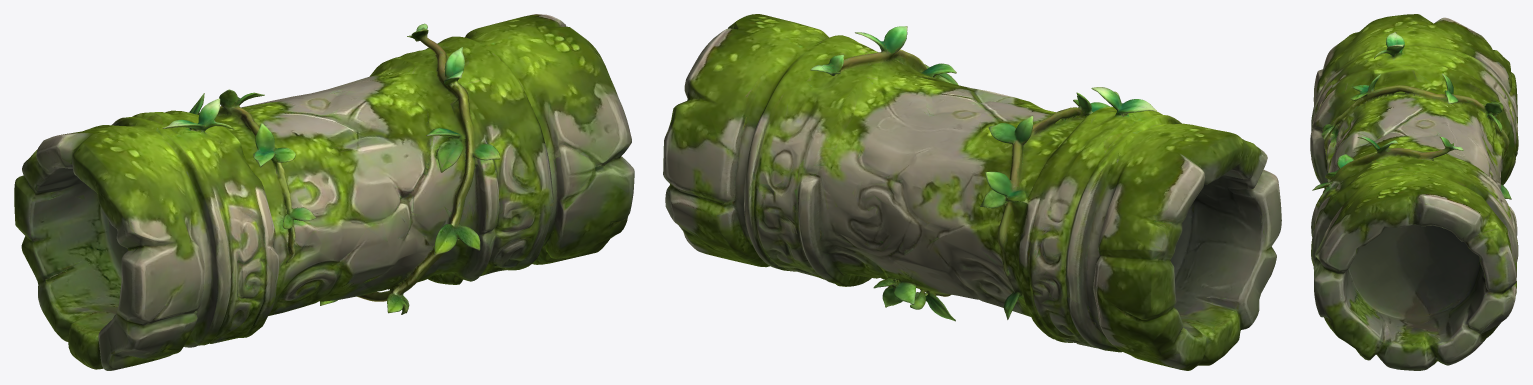
File: obs-log.glb
3 renders of one model, left to right at view 1: azimuth 30°, elevation 25°; view 2: azimuth 150°, elevation 25°; view 3: azimuth 270°, elevation 25°, orthographic. The views are drawn at different scales.
Visible parts, largest first — view 1: Mesh_0; view 2: Mesh_0; view 3: Mesh_0.
Part boxes in pixels (box(x1,y1,x2,y2)): Mesh_0: box(14, 14, 634, 370); Mesh_0: box(663, 14, 1281, 370); Mesh_0: box(1310, 14, 1518, 370).
Bounding box in the file's own units: 1.9 × 0.8956 × 0.8563.
1 material, 1 textured.
